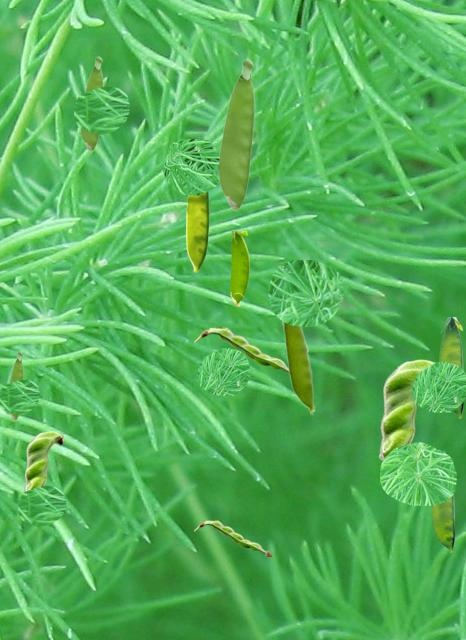pea: (378, 359, 435, 461), (218, 58, 254, 209), (194, 327, 287, 372), (281, 321, 314, 414), (194, 520, 271, 555), (23, 431, 65, 491), (439, 317, 462, 417), (80, 56, 102, 150), (186, 192, 208, 271), (230, 231, 248, 305), (431, 496, 453, 551), (9, 351, 22, 419)
